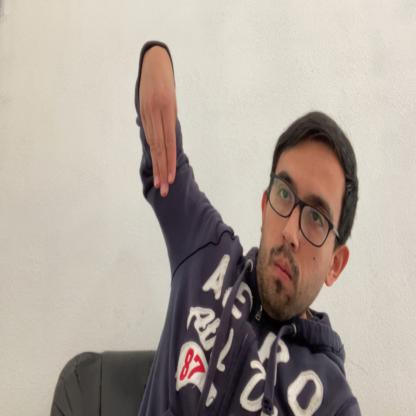M: (139, 46, 178, 197)
